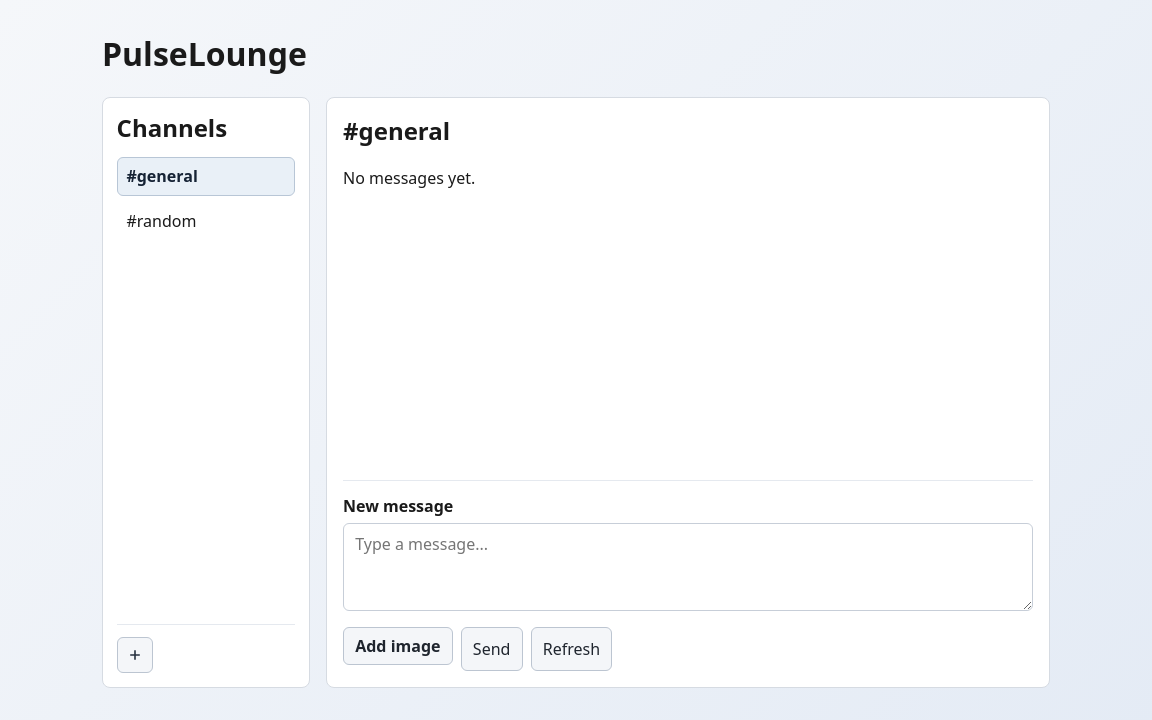
App › creates a channel and selects it
The width and height of the screenshot is (1152, 720).
Expected: the text "No messages yet." is shown, [343,167,475,189]
Click the button named "Add channel". click: (135, 655)
box: [117,637,153,673]
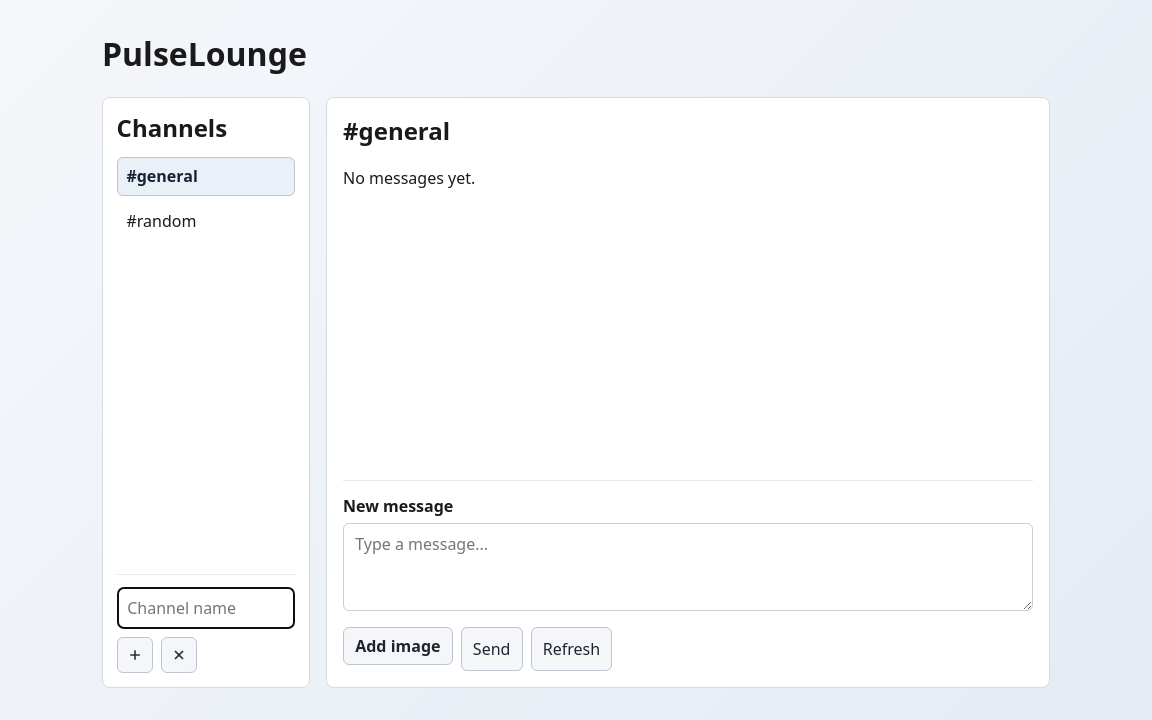
Type "ops" into the field labelled "Channel name". click: (206, 608)
box: [117,587,295,629]
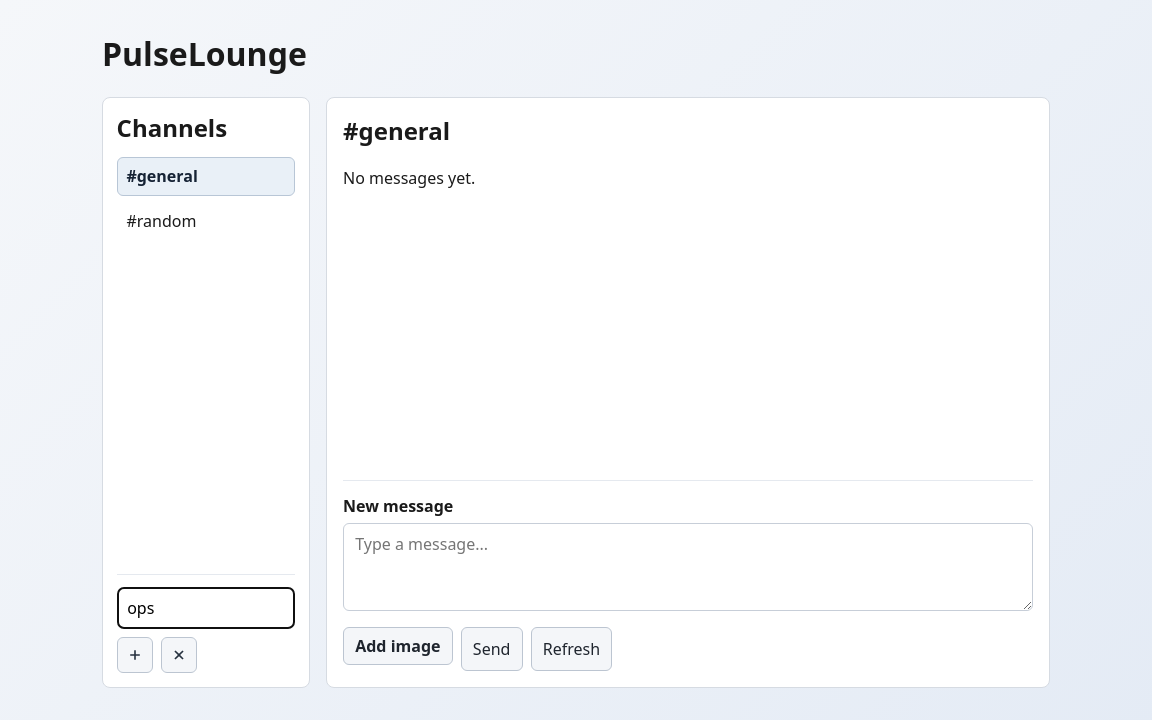
Click the button named "Create channel". click: (135, 655)
box: [117,637,153,673]
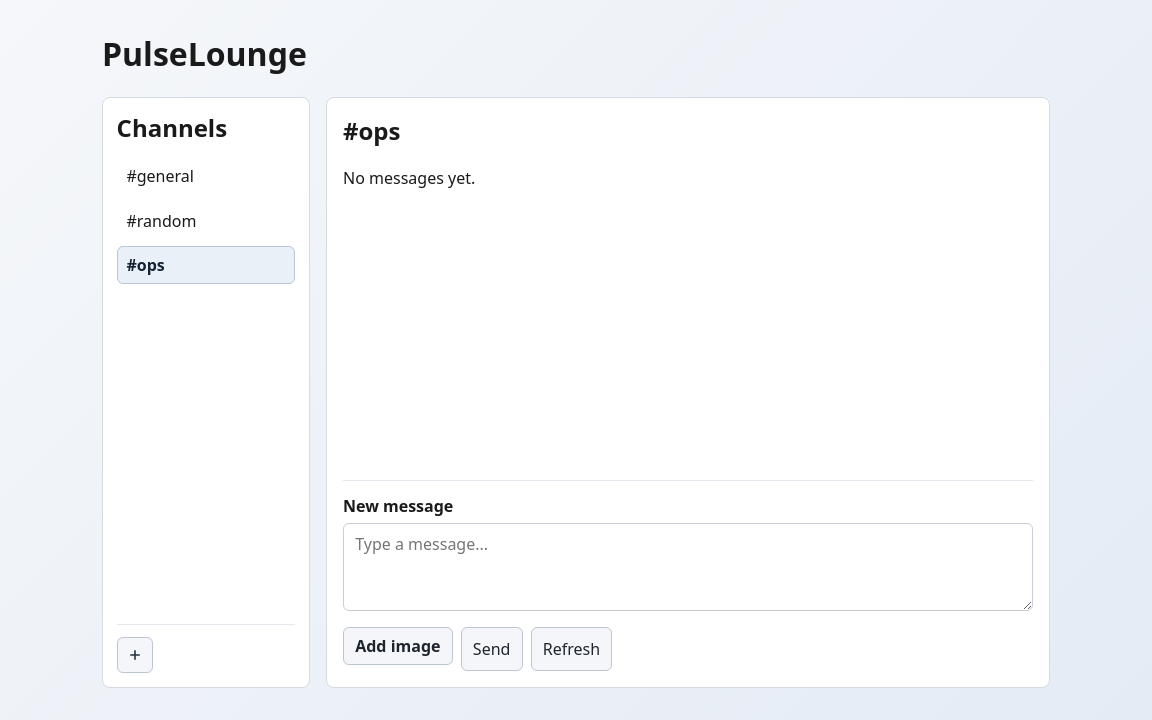
Expected: the button "#ops" is shown, [118,247,262,284]
Expected: the heading "#ops" is shown, [343,114,400,147]
